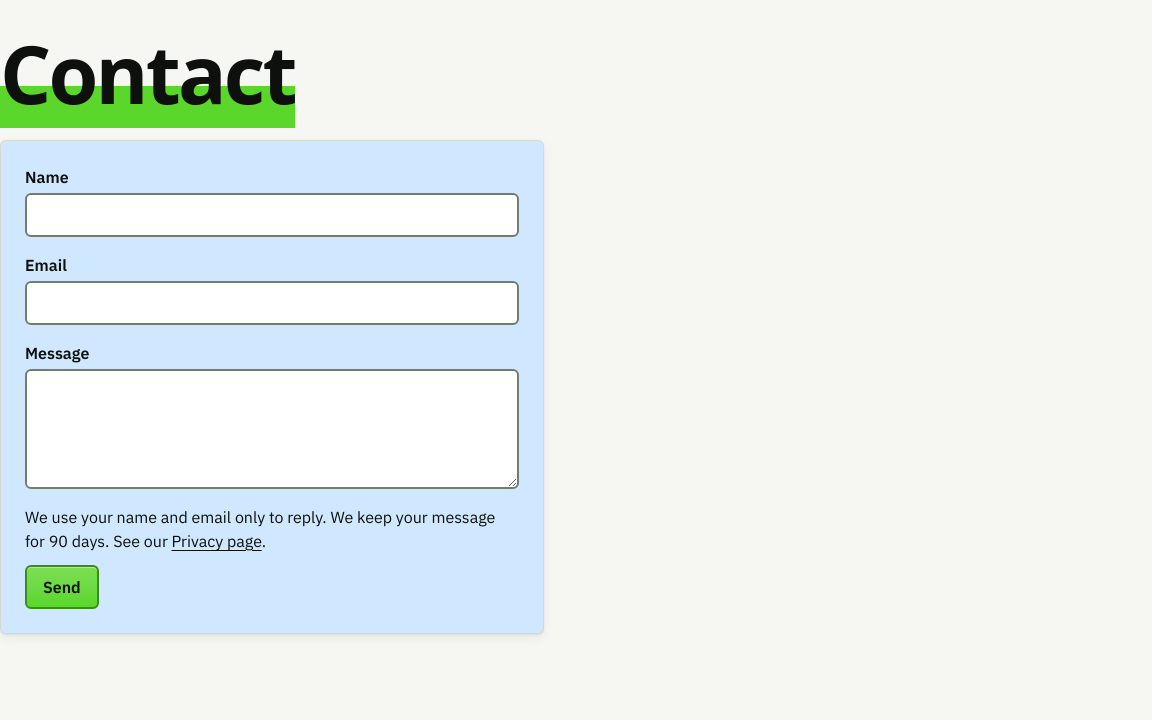
Test: contact page › sends the message with the signed token and thanks the sender
Check: the text "90 days" is shown, box [25,507,495,551]
Type "Fake Person" into the field labelled "Name".
click(272, 215); type("Fake Person")  # box [25,193,519,237]
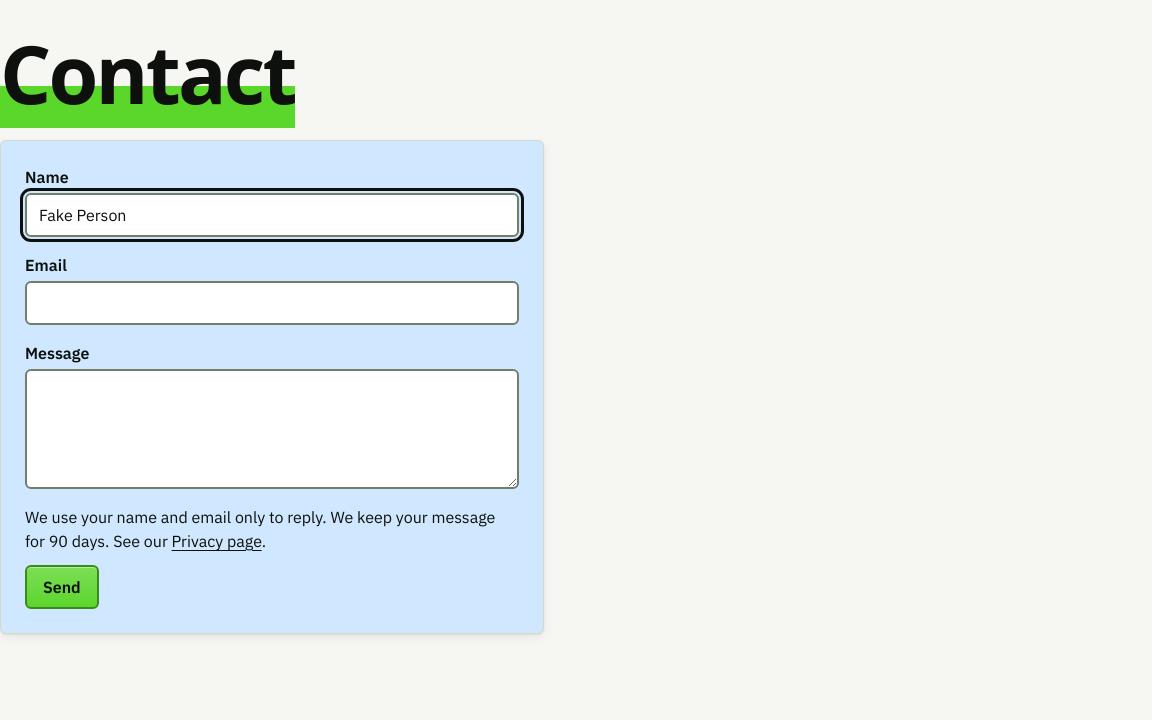
Type "user@example.com" into the field labelled "Email".
click(272, 303); type("user@example.com")  # box [25,281,519,325]
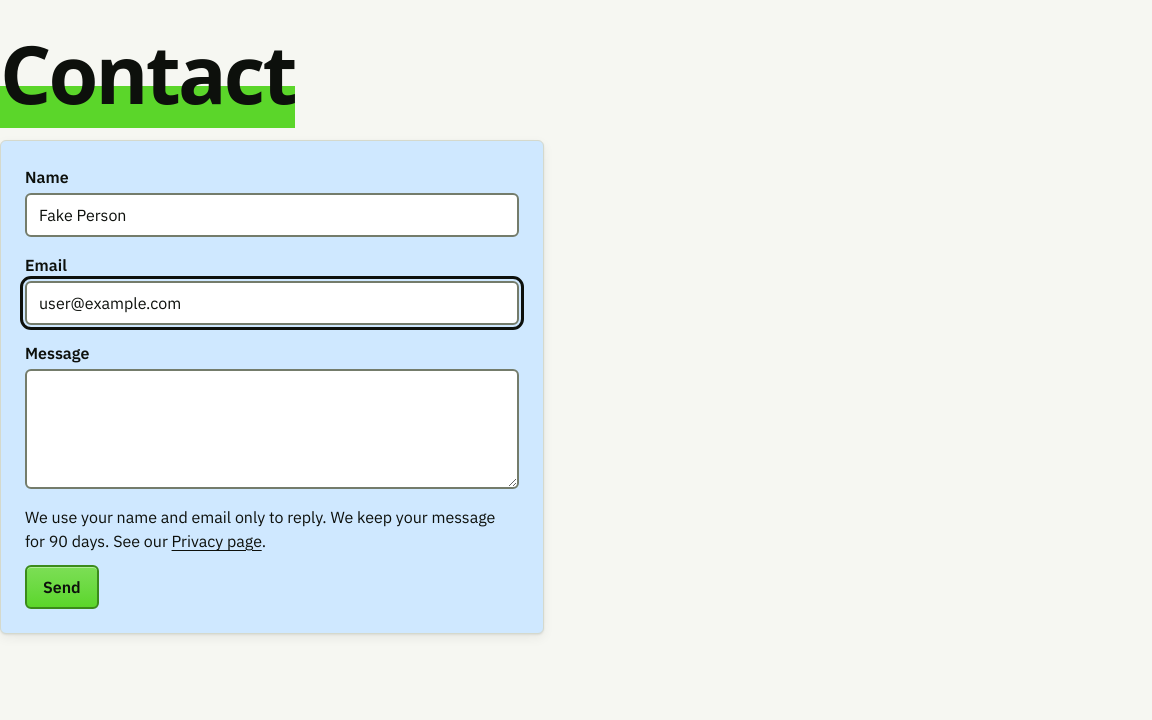
Type "Hello" into the text box labelled "Message".
click(272, 429); type("Hello")  # box [25,369,519,489]
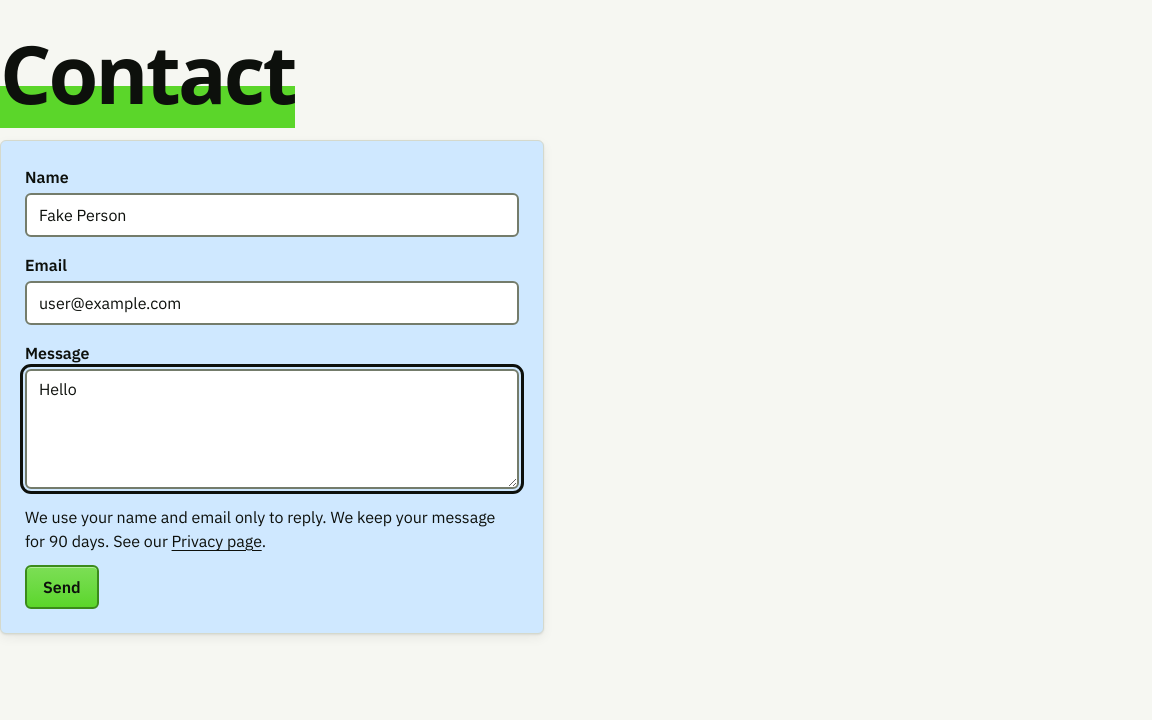
Click the button "Send".
click(62, 587)  # box [25,565,99,609]
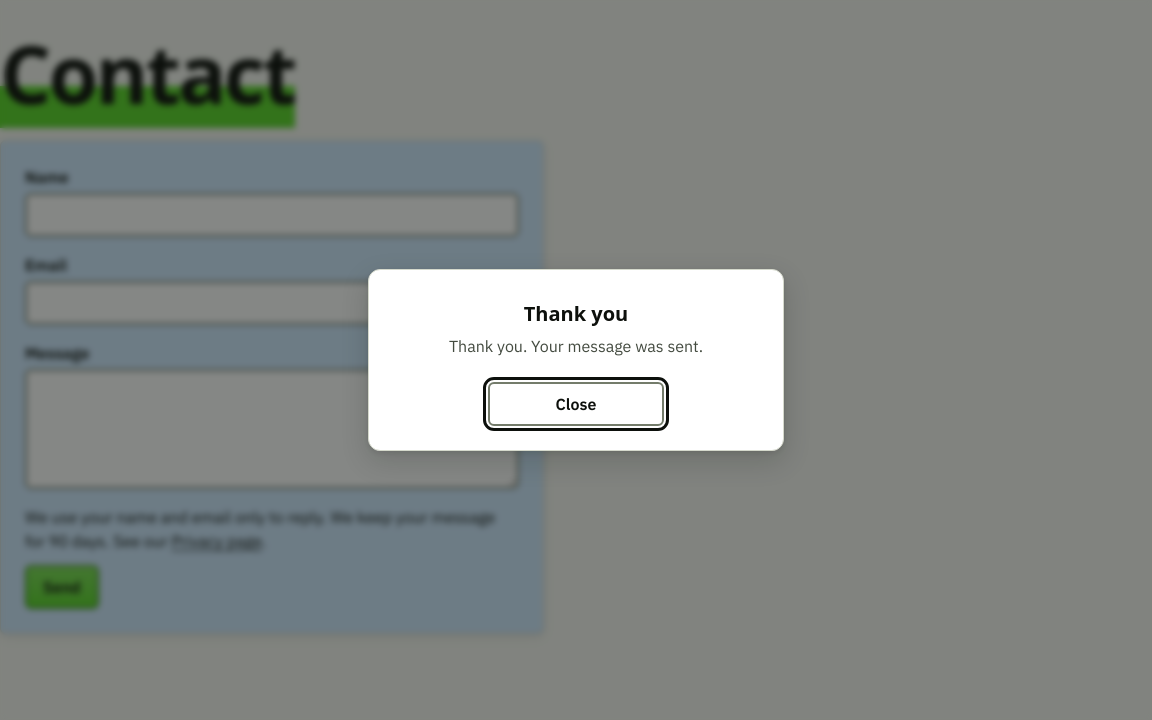
Check: the text "Thank you. Your message was sent." is shown, box [449,336,703,356]
Check: the text box labelled "Message" is empty, box [25,369,519,489]
